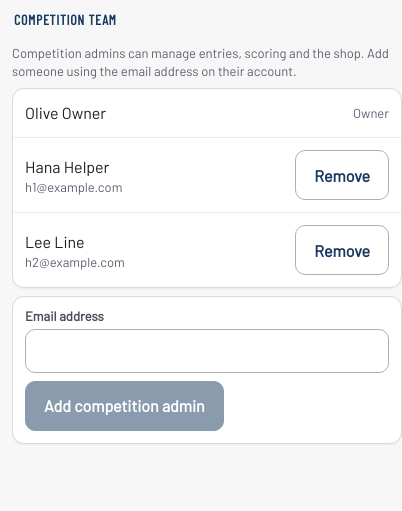
CompetitionTeamCard › shows the message when adding the owner or yourself is refused
The image size is (402, 511).
Expected: the text "Hana Helper" is shown, [25,155,122,179]
Type "me@example.com" into the field labelled "Email address" at [207, 351], box [25,329,389,373]
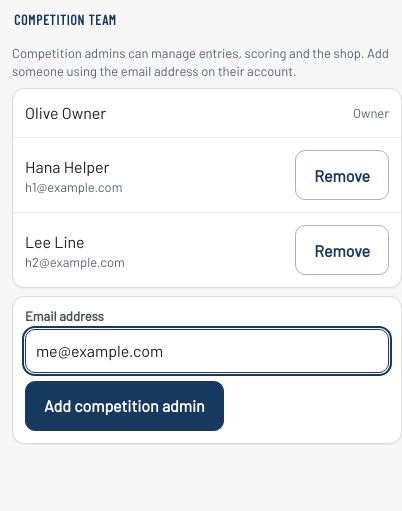
Click the button "Add competition admin" at [124, 406], box [25,381,224,431]
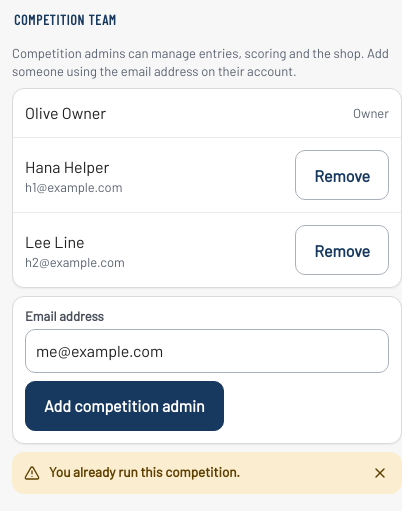
Expected: the message reads "You already run this competition.", [49,463,240,480]
